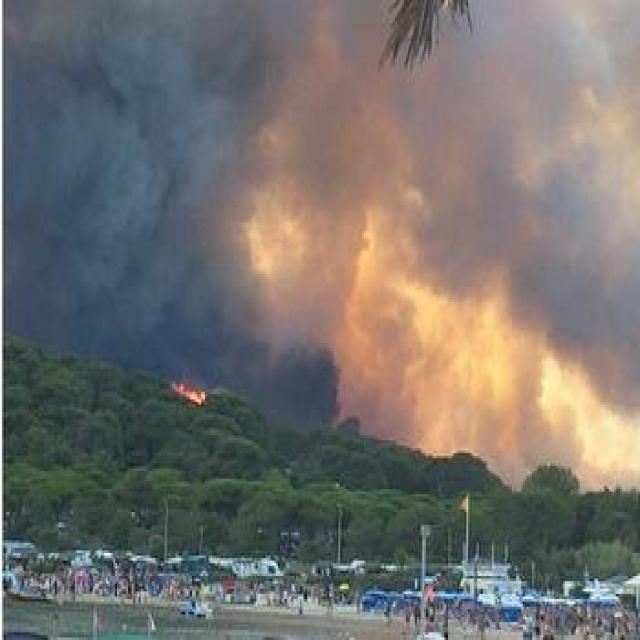Fire: (172, 378, 210, 410)
Smoke: (0, 0, 640, 507)
